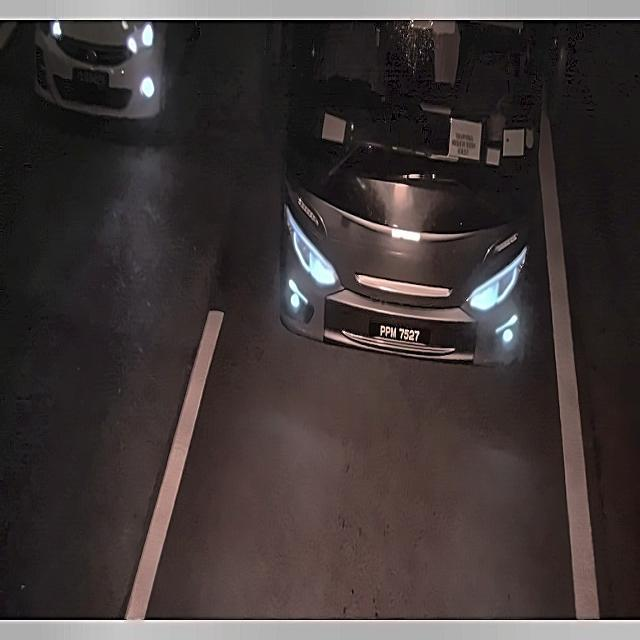car: (366, 316, 434, 353)
